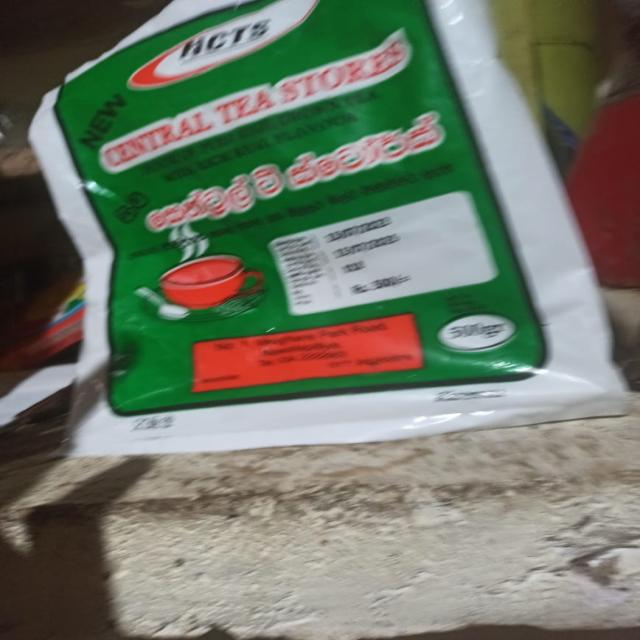Central Tea: (14, 0, 565, 443)
